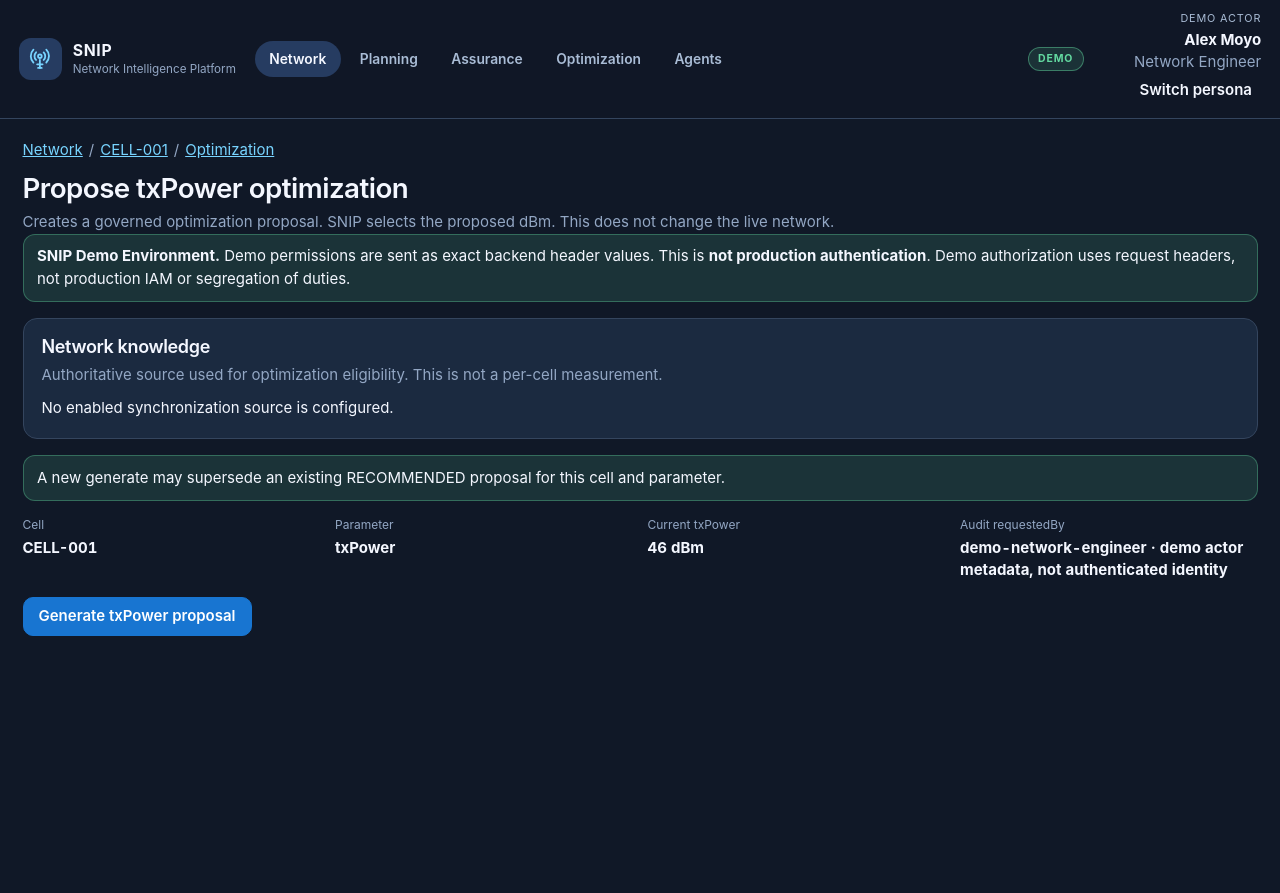
Scenario: Increment 2 workflow › generates a proposal with the exact body and permission, and blocks double submit
This screenshot has width=1280, height=893.
Expected: the heading "Propose txPower optimization" is shown, [22,171,408,205]
What coordinates should you click on to do the following:
click the button "Generate txPower proposal"
I would click on:
 (137, 617)
Its box is [22,597,252,636].
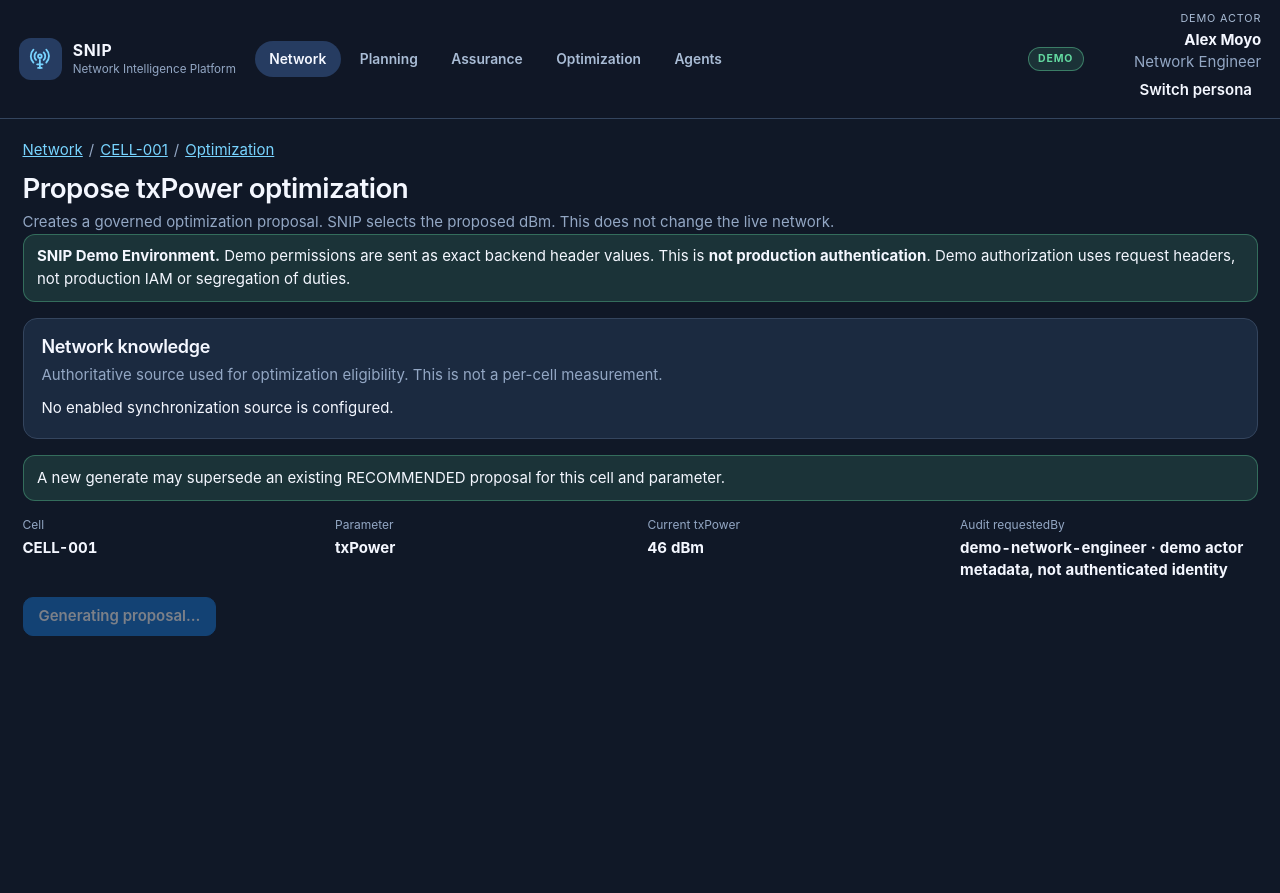
Expected: the button "Generating proposal…" is disabled
What coordinates should you click on to do the following:
click the button "Generating proposal…"
I would click on:
 (119, 617)
Its box is [22,597,216,636].
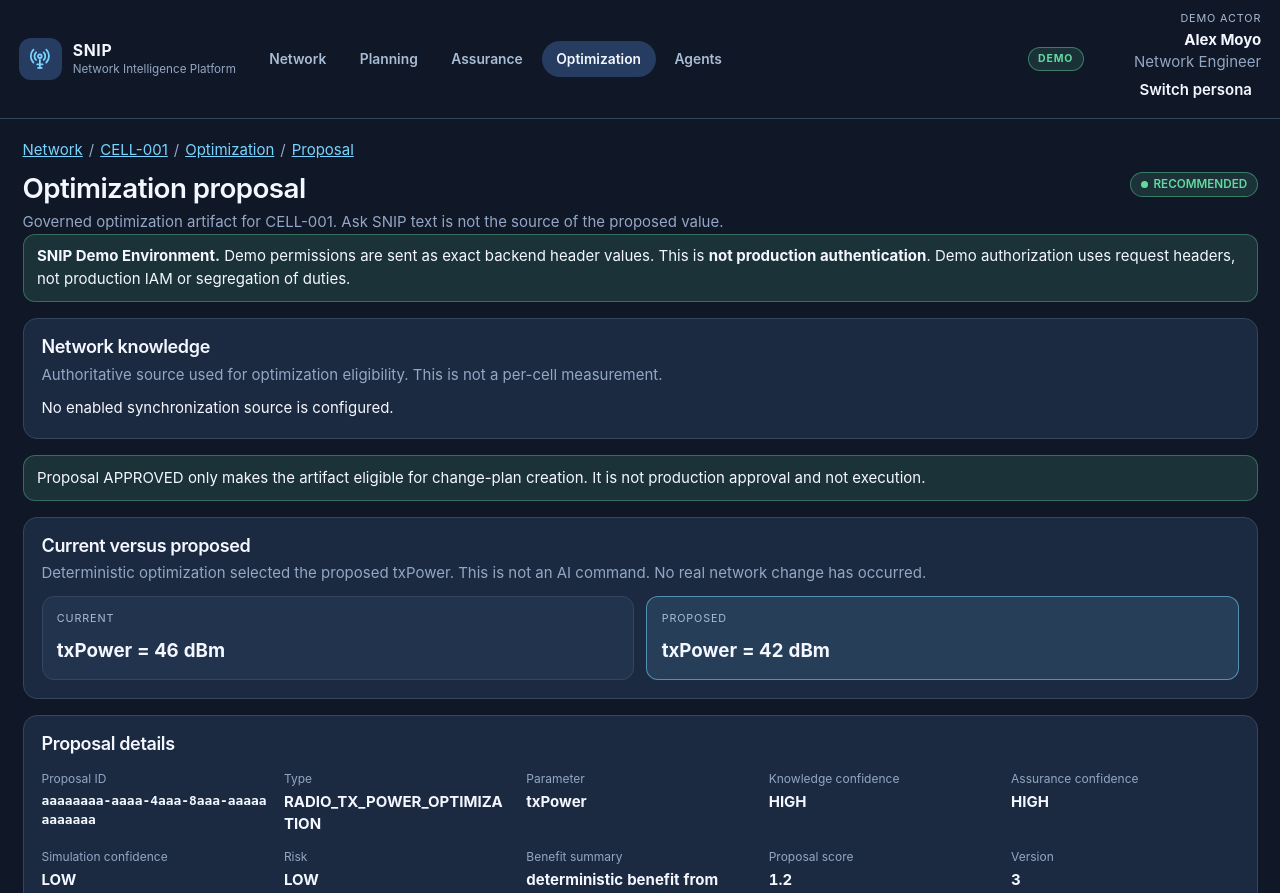
Expected: the heading "Optimization proposal" is shown, [22,171,306,205]
